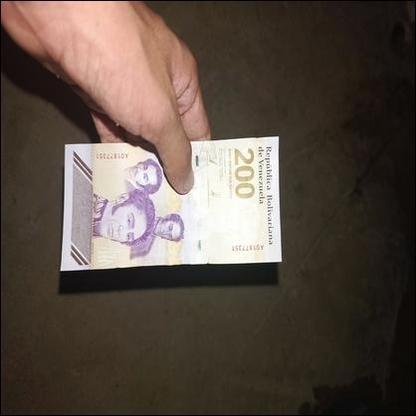two_hundred-front-vef: (59, 134, 282, 272)
